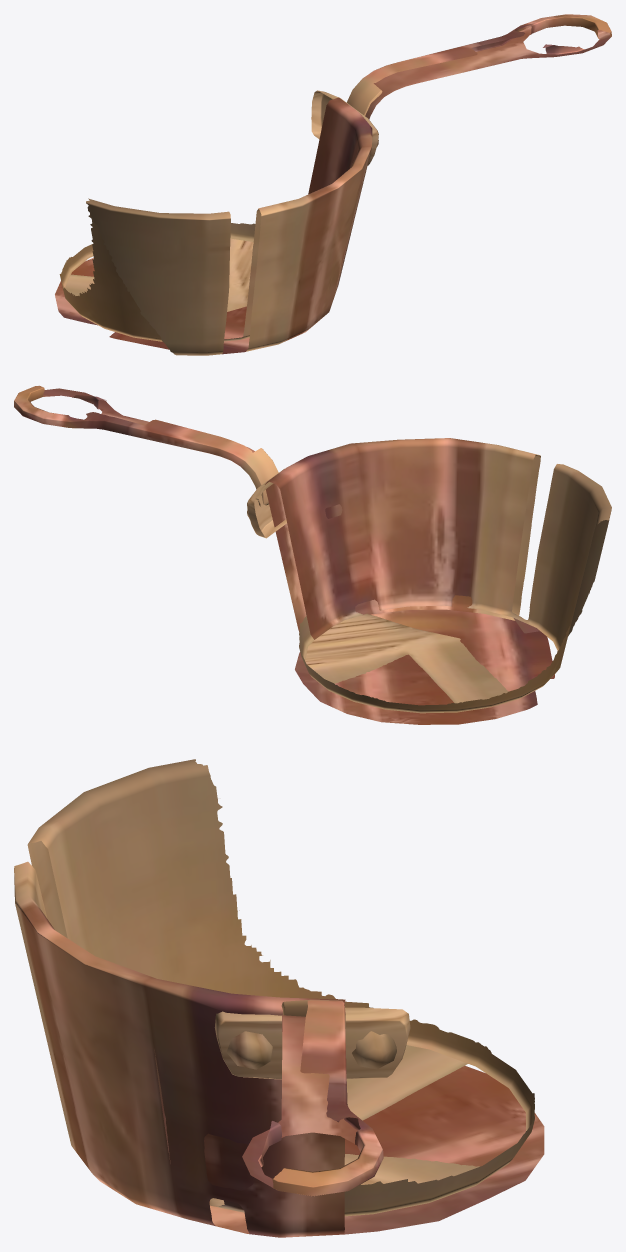
3 renders of one model, top to bottom at view 1: azimuth 30°, elevation 25°; view 2: azimuth 150°, elevation 25°; view 3: azimuth 270°, elevation 25°, orthographic. The views are drawn at different scales.
Visible parts, largest first — view 1: SM_Cook_Book_Open_01_LOD0; view 2: SM_Cook_Book_Open_01_LOD0; view 3: SM_Cook_Book_Open_01_LOD0.
Boxes of the visible parts, x1,y1,x2,y2 form: SM_Cook_Book_Open_01_LOD0: (55,14,611,355); SM_Cook_Book_Open_01_LOD0: (14,385,611,724); SM_Cook_Book_Open_01_LOD0: (14,759,544,1237).
Bounding box in the file's own units: 0.6837 × 0.2063 × 0.3687.
